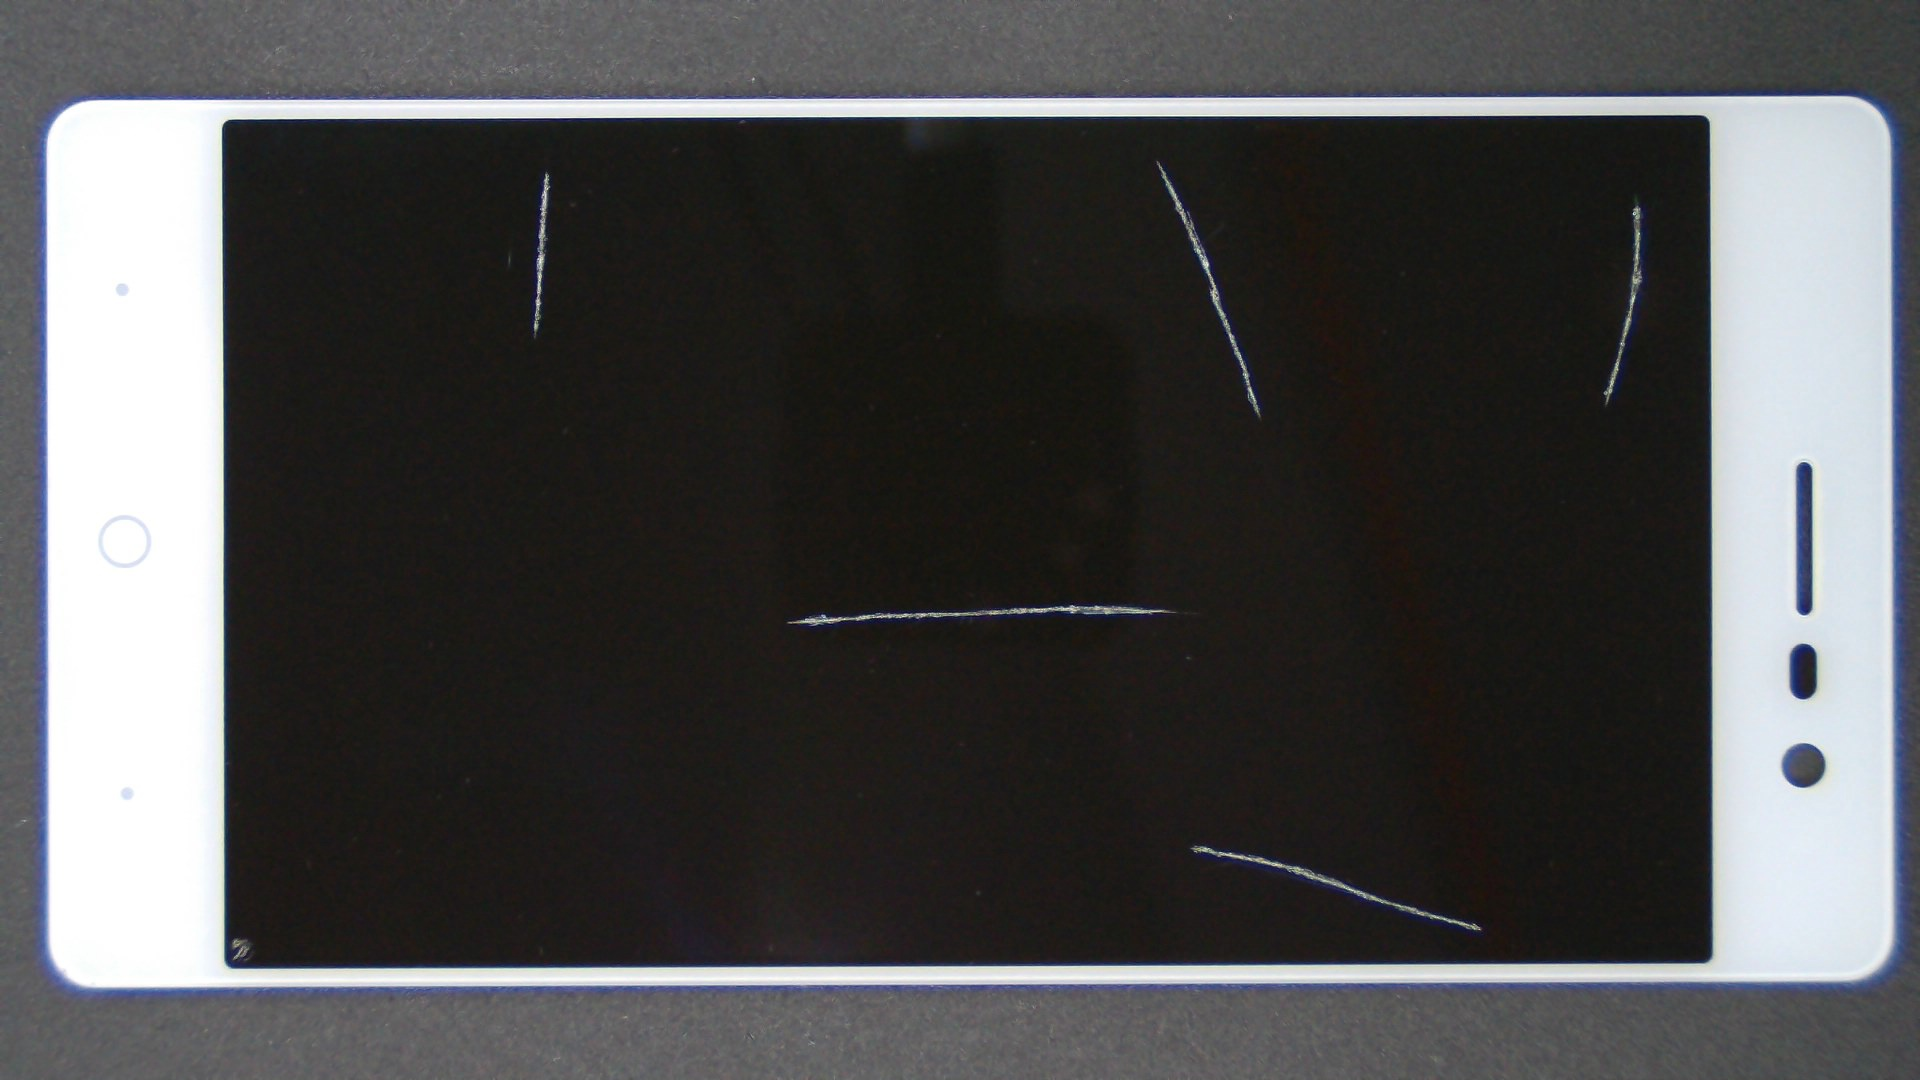oil: (596, 422, 1788, 1080), (535, 302, 1606, 906), (818, 96, 1920, 295), (578, 79, 1734, 241), (117, 468, 349, 1080), (272, 84, 816, 260)
